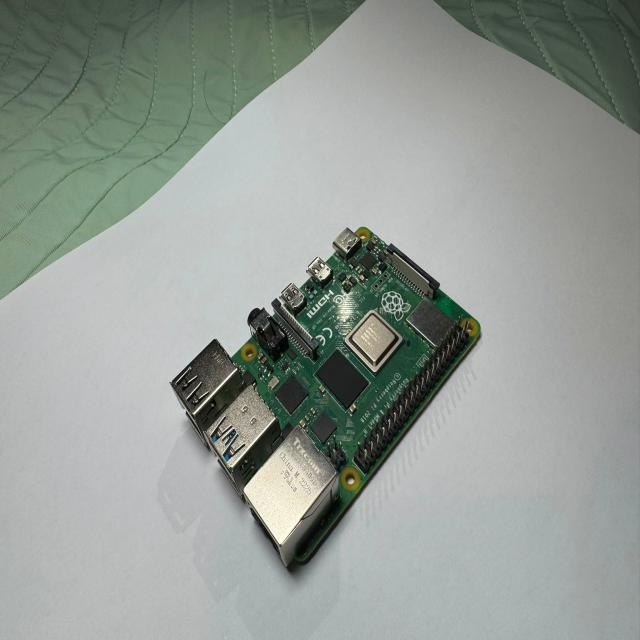CPU: (340, 311, 404, 382)
Ethernet: (243, 430, 338, 562)
GPIO: (354, 301, 481, 483)
RAM: (318, 346, 375, 413)
Raspberry: (169, 228, 482, 576)
micro-hdmi: (306, 255, 334, 289), (279, 283, 306, 314)
